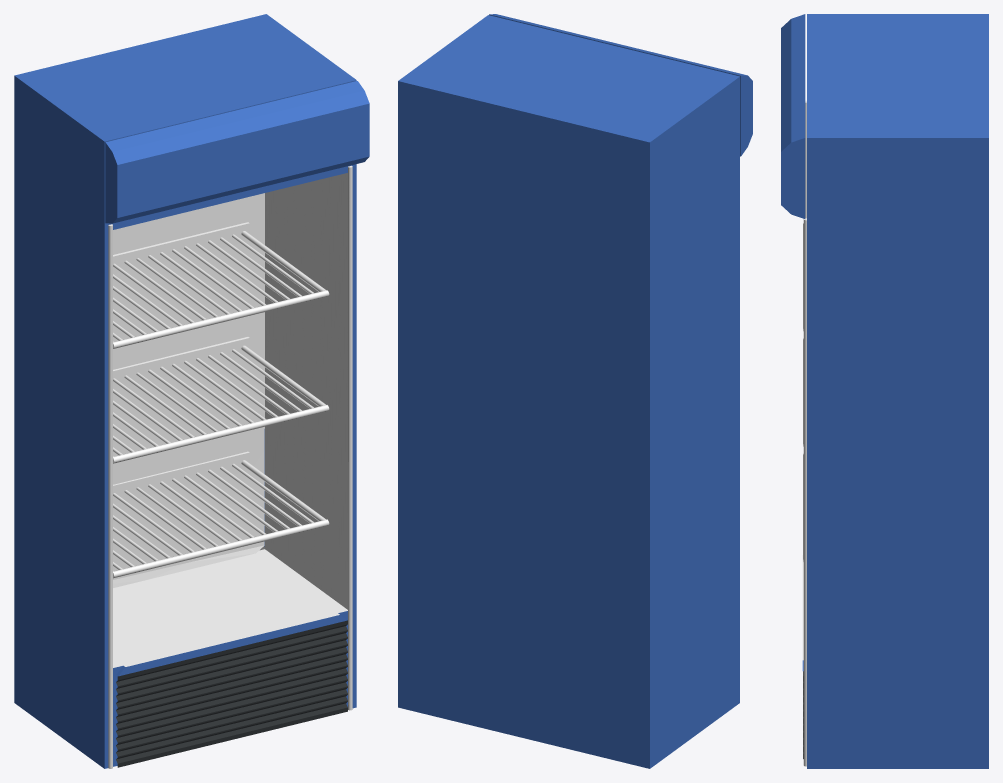
Rendered from SM_fridge_drinks_02.fbx.
3 renders of one model, left to right at view 1: azimuth 30°, elevation 25°; view 2: azimuth 150°, elevation 25°; view 3: azimuth 270°, elevation 25°, orthographic.
Parts seen in each view (by area): view 1: fridge_drinks_02; view 2: fridge_drinks_02; view 3: fridge_drinks_02.
Part boxes in pixels (x1,y1,x2,y2): fridge_drinks_02: (14,14,369,768); fridge_drinks_02: (398,14,752,768); fridge_drinks_02: (781,14,988,768).
Size of the model in its own units: 108 by 257 by 76.68.
